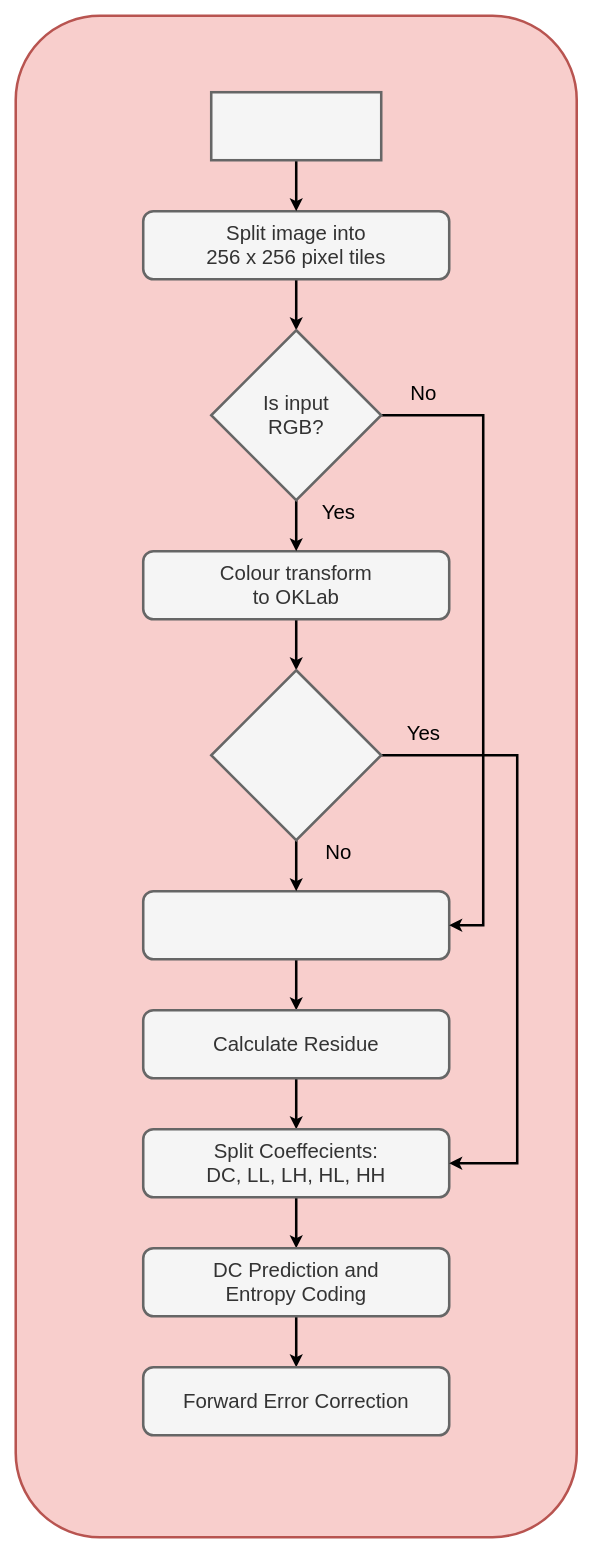
Image size: 592x1553. Some labels were removed from this diagram. The box of each missing label's shape, as (x1, y1, x2, y2) in pixels:
8x8 DCT and Quantisation: (142, 890, 450, 960)
Input Image: (210, 91, 382, 161)
Is input JPEG?: (210, 669, 382, 841)
